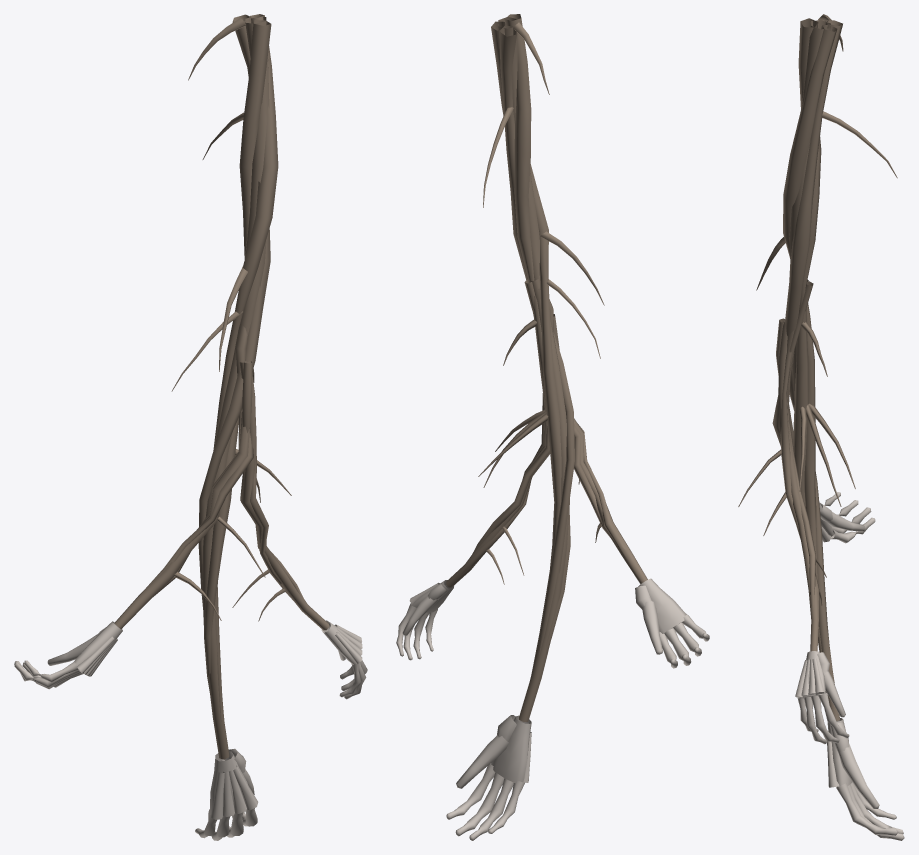
Rendered from HandRoot4.fbx.
The picture shows the model from 3 angles, left to right: view 1: azimuth 30°, elevation 25°; view 2: azimuth 150°, elevation 25°; view 3: azimuth 270°, elevation 25°; orthographic projection. The views are drawn at different scales.
Parts seen in each view (by area): view 1: HandRoot4; view 2: HandRoot4; view 3: HandRoot4.
Part boxes in pixels (bbox=[...]): HandRoot4: bbox=[14, 14, 367, 840]; HandRoot4: bbox=[396, 14, 709, 840]; HandRoot4: bbox=[738, 14, 904, 840].
Size of the model in its own units: 1.05 by 2.54 by 0.4694.
